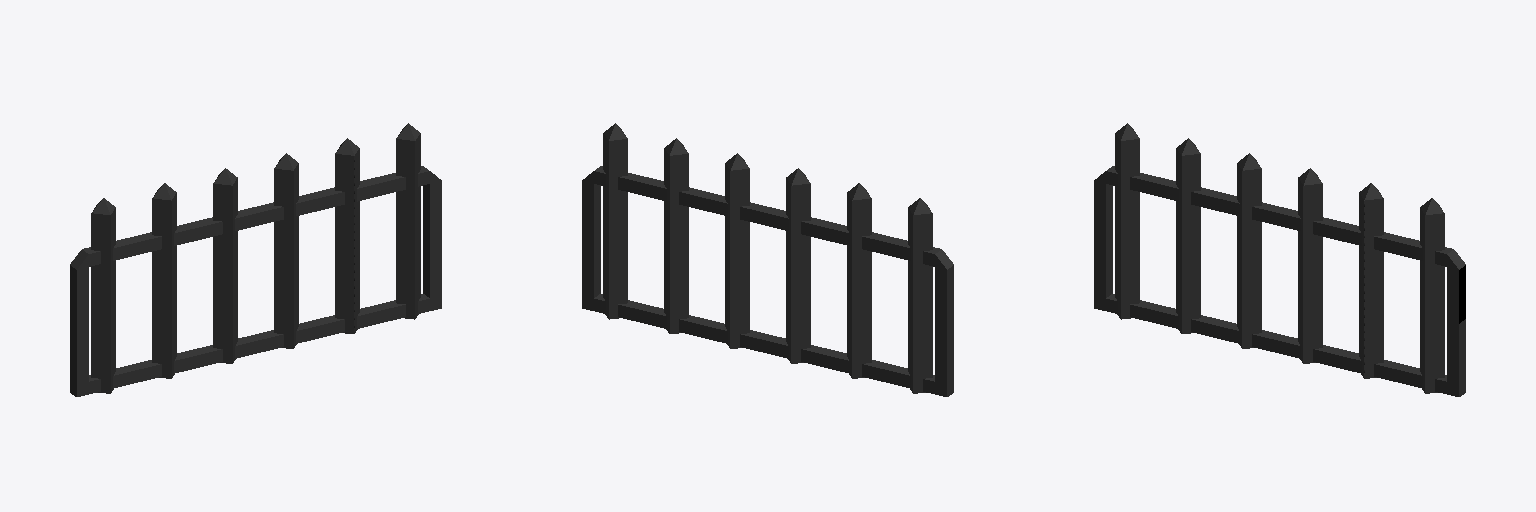
3 renders of one model, left to right at view 1: azimuth 30°, elevation 25°; view 2: azimuth 150°, elevation 25°; view 3: azimuth 330°, elevation 25°, orthographic.
Visible parts, largest first — view 1: Gate.001_Cube.002; view 2: Gate.001_Cube.002; view 3: Gate.001_Cube.002.
Boxes of the visible parts, box(x1,y1,x2,y2) form: Gate.001_Cube.002: box(70, 123, 441, 396); Gate.001_Cube.002: box(582, 123, 953, 396); Gate.001_Cube.002: box(1094, 123, 1465, 396).
Size of the model in its own units: 3 by 1.5 by 0.2.
1 materials, 1 textured.